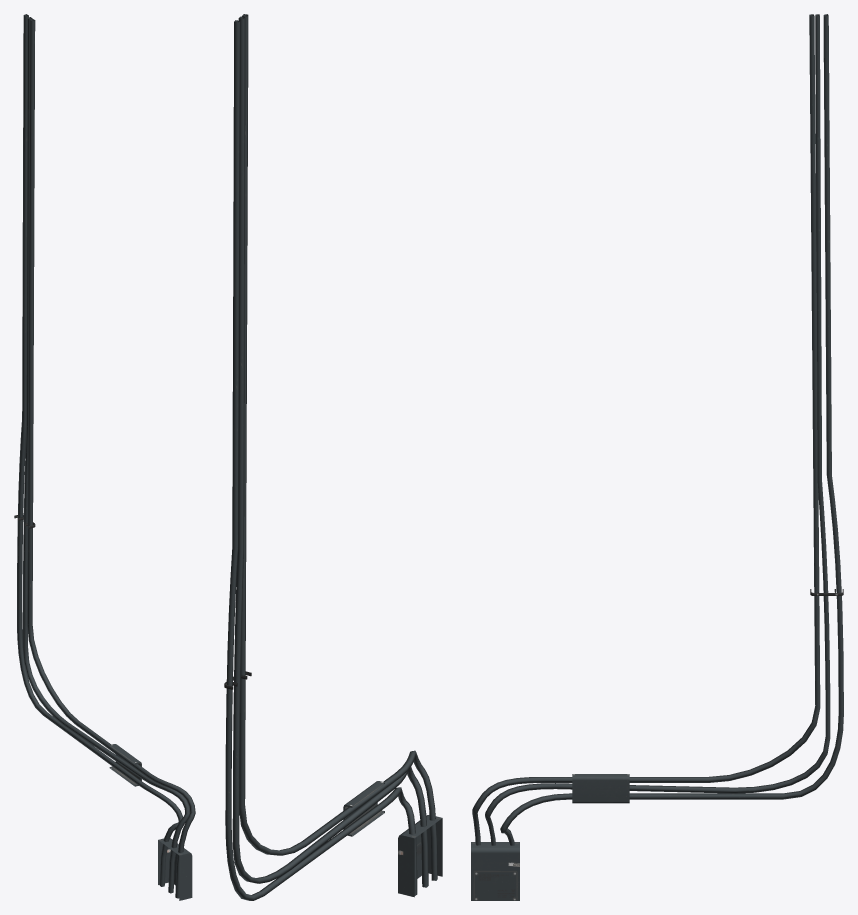
The model's file is SM_WallWire_01.FBX.
3 renders of one model, left to right at view 1: azimuth 30°, elevation 25°; view 2: azimuth 150°, elevation 25°; view 3: azimuth 270°, elevation 25°, orthographic. The views are drawn at different scales.
Parts seen in each view (by area): view 1: SM_WallWire_01_LOD0; view 2: SM_WallWire_01_LOD0; view 3: SM_WallWire_01_LOD0.
Part boxes in pixels (x1,y1,x2,y2): SM_WallWire_01_LOD0: (14, 14, 195, 900); SM_WallWire_01_LOD0: (224, 14, 442, 900); SM_WallWire_01_LOD0: (471, 14, 843, 900).
Bounding box in the file's own units: 16.88 × 231 × 600.
